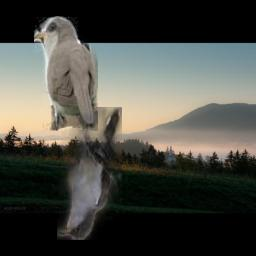Cuckoo: (57, 107, 122, 240), (34, 16, 98, 131)
